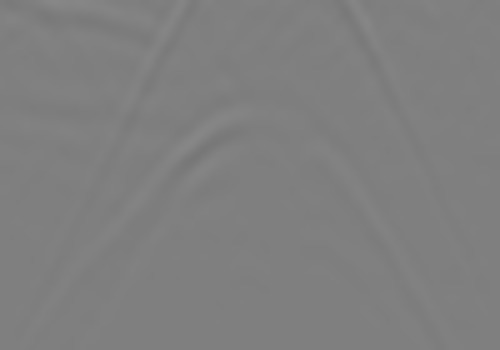hyperbola: (79, 99, 428, 308)
